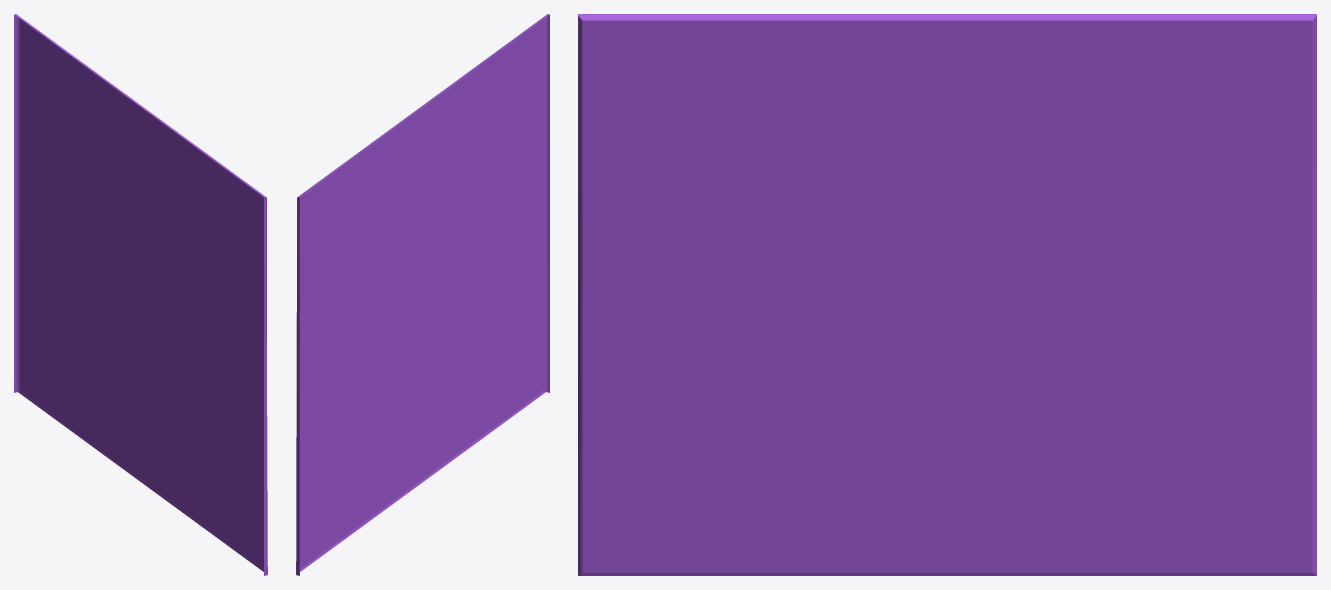
Rendered from Friday_TubWall1.fbx.
3 views of the same model, side by side, from view 1: azimuth 30°, elevation 25°; view 2: azimuth 150°, elevation 25°; view 3: azimuth 270°, elevation 25° (orthographic). The views are drawn at different scales.
Visible parts, largest first — view 1: TubWall_1; view 2: TubWall_1; view 3: TubWall_1.
Part boxes in pixels (bbox=[...]): TubWall_1: bbox=[14, 14, 267, 575]; TubWall_1: bbox=[296, 14, 549, 575]; TubWall_1: bbox=[578, 14, 1316, 575].
Bounding box in the file's own units: 1.14 × 96.89 × 116.
